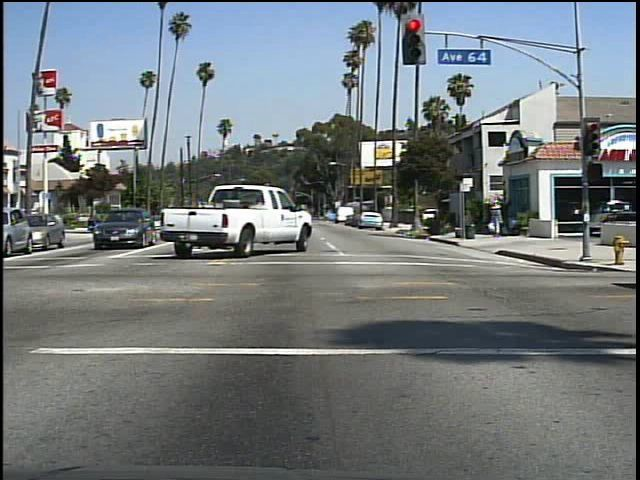person: (484, 197, 510, 242)
